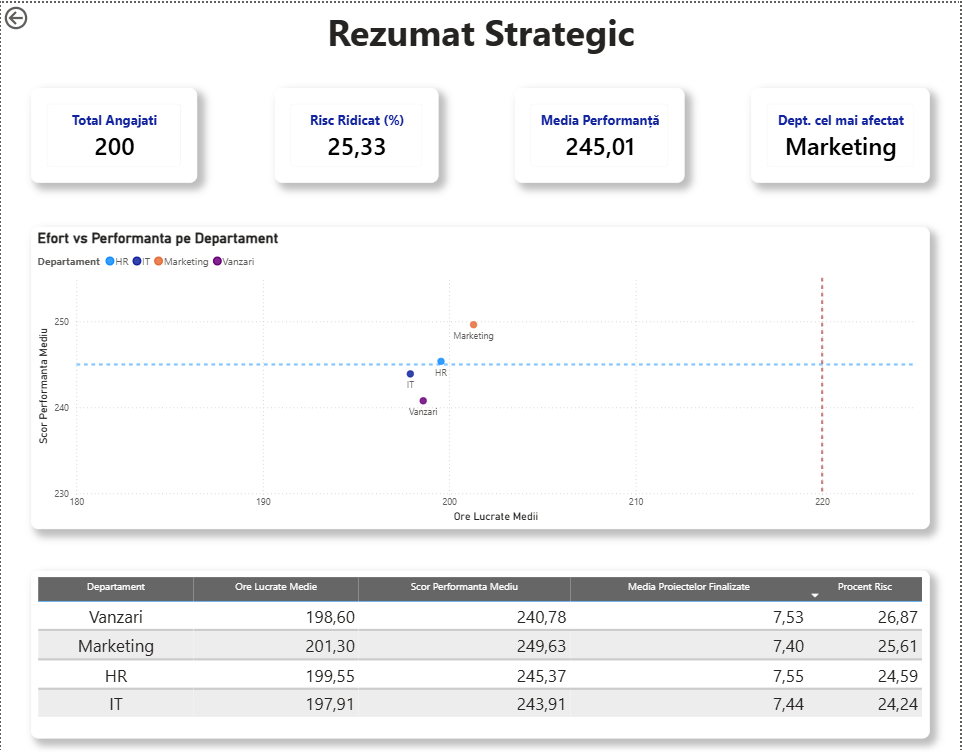

What the dashboard file says about the page in this screenshot:
{"tool":"powerbi","page":{"name":"Rezumat Strategic","canvas":[1280,1000],"ordinal":13},"visuals":[{"type":"scatterChart","title":"Efort vs Performanta pe Departament","fields":{"Series":["date_angajati.Departament"],"X":["Avg(date_angajati.Ore_Lucrate)"],"Y":["Avg(date_angajati.Scor_Performanta)"]},"box":[40,298.3,1198.3,403.3],"z":0},{"type":"textbox","box":[11.7,0,1256.7,86.7],"z":1000},{"type":"cardVisual","fields":{"Data":["date_angajati.Total_Angajati"]},"box":[40,113.3,221.7,126.7],"z":2000},{"type":"cardVisual","fields":{"Data":["date_angajati.Procent_Risc"]},"box":[365,113.3,218.3,126.7],"z":3000},{"type":"cardVisual","fields":{"Data":["Avg(date_angajati.Scor_Performanta)"]},"box":[685,113.3,226.7,126.7],"z":4000},{"type":"cardVisual","fields":{"Data":["date_angajati.Dept_Burnout"]},"box":[1000,113.3,238.3,126.7],"z":5000},{"type":"tableEx","fields":{"Values":["date_angajati.Departament","Avg(date_angajati.Ore_Lucrate)","Avg(date_angajati.Scor_Performanta)","Avg(date_angajati.Proiecte_Finalizate)","date_angajati.Procent_Risc"]},"box":[40,756,1198,224],"z":6000},{"type":"actionButton","box":[0,0,100,40],"z":7000}]}

Visuals, with their boxes in screenshot pixels (x1, y1, x2, y2), scaled from the page's 1280x1000 canvas onto the 962x752 screenshot:
"Efort vs Performanta pe Departament" scatterChart: rect(30, 224, 931, 528)
textbox: rect(9, 0, 953, 65)
cardVisual - date_angajati.Total_Angajati: rect(30, 85, 197, 180)
cardVisual - date_angajati.Procent_Risc: rect(274, 85, 438, 180)
cardVisual - Avg(date_angajati.Scor_Performanta): rect(515, 85, 685, 180)
cardVisual - date_angajati.Dept_Burnout: rect(752, 85, 931, 180)
tableEx - date_angajati.Departament x Avg(date_angajati.Ore_Lucrate): rect(30, 569, 930, 737)
actionButton: rect(0, 0, 75, 30)
